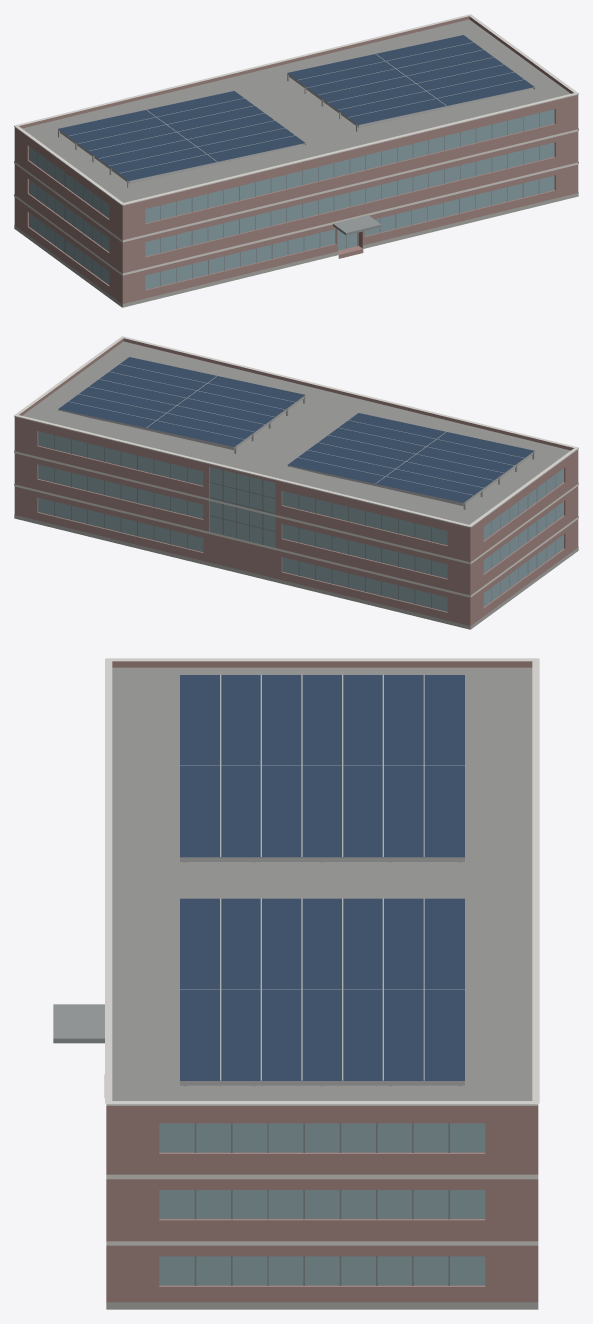
3 views of the same model, one above another, from view 1: azimuth 30°, elevation 25°; view 2: azimuth 150°, elevation 25°; view 3: azimuth 270°, elevation 25° (orthographic). The views are drawn at different scales.
Visible parts, largest first — view 1: b36807585__wall, b36807585__pvPanel, b36807585__glass, b36807585__roof, b36807585__trim, b36807585__pvFrame, b36807585__parapet, b36807585__base, b36807585__frame, b36807585__canopy; view 2: b36807585__wall, b36807585__pvPanel, b36807585__glass, b36807585__roof, b36807585__trim, b36807585__pvFrame, b36807585__parapet, b36807585__base, b36807585__frame; view 3: b36807585__pvPanel, b36807585__roof, b36807585__wall, b36807585__glass, b36807585__trim, b36807585__pvFrame, b36807585__parapet, b36807585__base, b36807585__canopy, b36807585__frame.
Boxes of the visible parts, x1,y1,x2,y2 form: b36807585__wall: [14, 97, 578, 307]; b36807585__pvPanel: [58, 35, 534, 180]; b36807585__glass: [29, 109, 554, 289]; b36807585__roof: [22, 19, 570, 202]; b36807585__trim: [14, 14, 578, 275]; b36807585__pvFrame: [58, 42, 534, 187]; b36807585__parapet: [14, 16, 578, 207]; b36807585__base: [14, 192, 578, 307]; b36807585__frame: [37, 113, 539, 286]; b36807585__canopy: [333, 215, 381, 235]; b36807585__wall: [14, 419, 578, 629]; b36807585__pvPanel: [58, 357, 534, 502]; b36807585__glass: [38, 431, 563, 611]; b36807585__roof: [22, 341, 570, 524]; b36807585__trim: [14, 336, 578, 597]; b36807585__pvFrame: [58, 364, 534, 509]; b36807585__parapet: [14, 338, 578, 529]; b36807585__base: [14, 514, 578, 629]; b36807585__frame: [54, 435, 555, 608]; b36807585__pvPanel: [180, 675, 464, 1080]; b36807585__roof: [112, 667, 532, 1100]; b36807585__wall: [106, 1110, 538, 1302]; b36807585__glass: [159, 1123, 485, 1285]; b36807585__trim: [105, 658, 539, 1245]; b36807585__pvFrame: [180, 674, 464, 1086]; b36807585__parapet: [106, 661, 538, 1110]; b36807585__base: [106, 1302, 538, 1309]; b36807585__canopy: [53, 1004, 104, 1043]; b36807585__frame: [194, 1123, 449, 1285].
Size of the model in its own units: 51.85 by 12.02 by 23.88.
